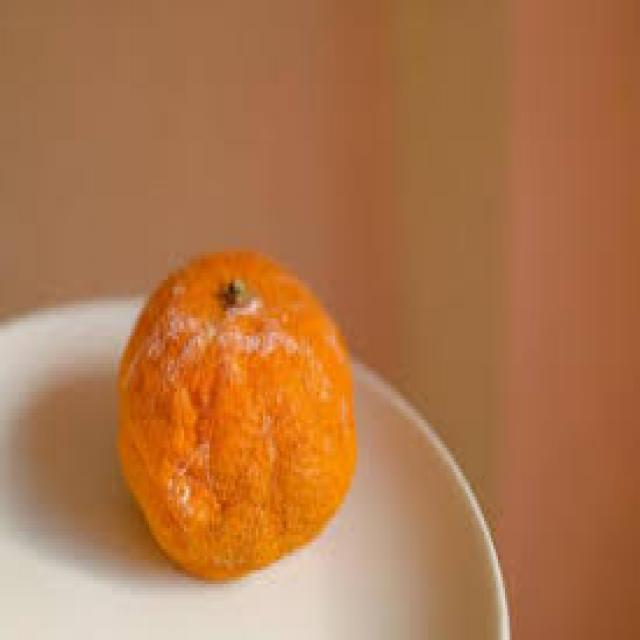organic waste: (112, 245, 354, 584)
